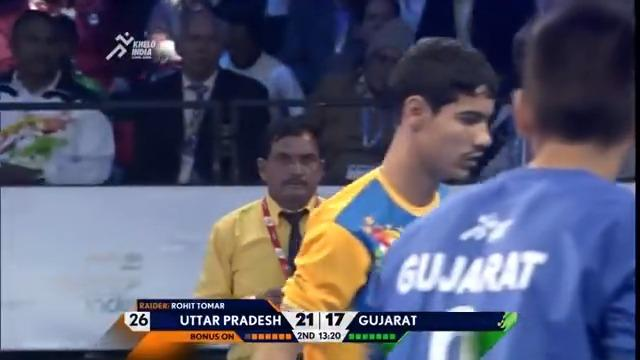Player: (345, 1, 636, 358)
Raider: (276, 35, 500, 358)
referee: (193, 116, 330, 357)
